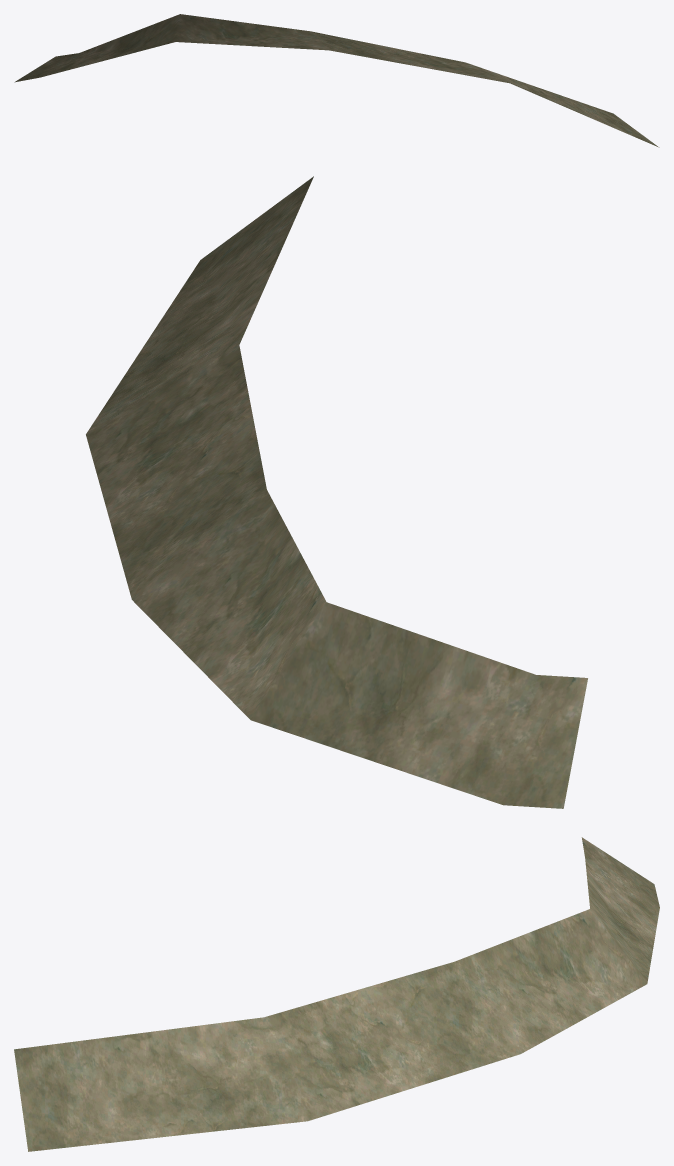
Rendered from OVERHILL_A_01_OBJECT172.fbx.
The picture shows the model from 3 angles, top to bottom: view 1: azimuth 30°, elevation 25°; view 2: azimuth 150°, elevation 25°; view 3: azimuth 270°, elevation 25°; orthographic projection. The views are drawn at different scales.
Visible parts, largest first — view 1: OVERHILL_A_01_OBJECT172; view 2: OVERHILL_A_01_OBJECT172; view 3: OVERHILL_A_01_OBJECT172.
Boxes of the visible parts, box(x1,y1,x2,y2) form: OVERHILL_A_01_OBJECT172: box(14, 14, 659, 147); OVERHILL_A_01_OBJECT172: box(86, 176, 587, 808); OVERHILL_A_01_OBJECT172: box(14, 837, 659, 1151).
Size of the model in its own units: 223021 by 29777 by 223524.
Materials: 1 (1 with a texture image).
